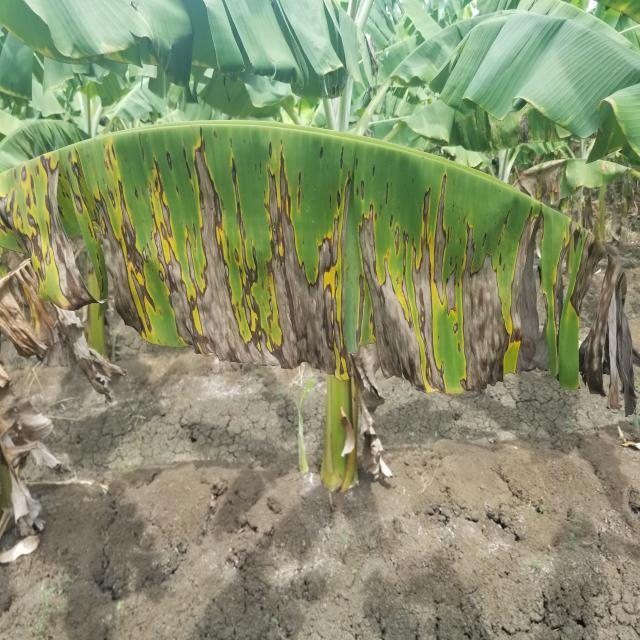Early_rust: (0, 96, 640, 427)
